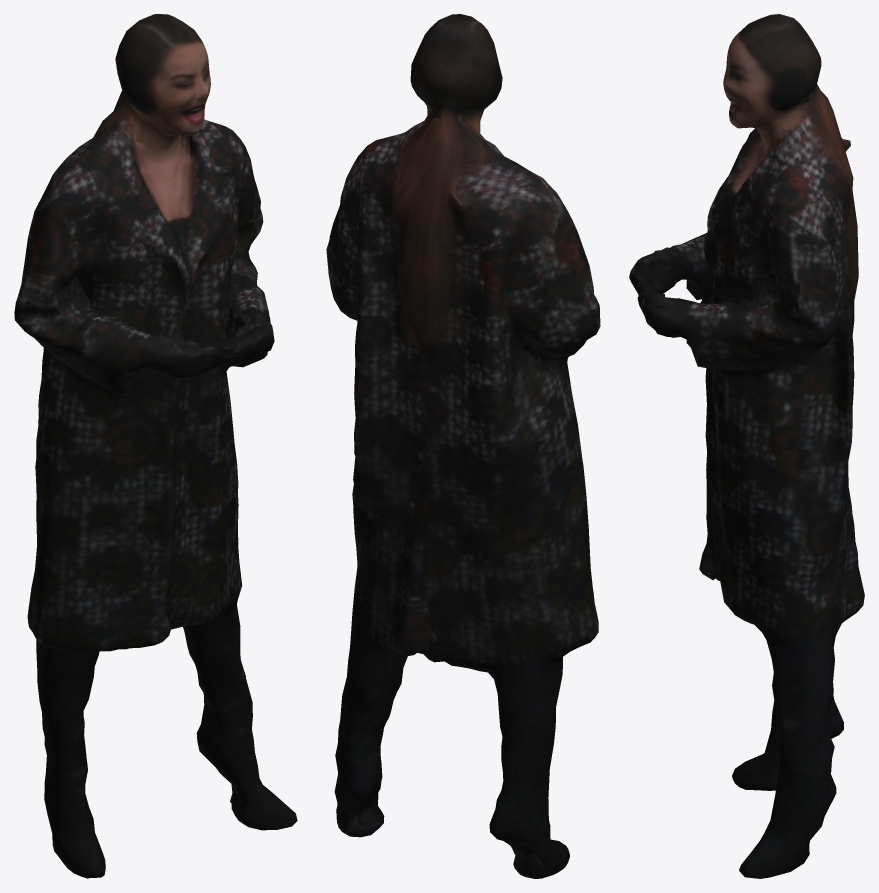
Rendered from evercoast.0086.gltf.
The picture shows the model from 3 angles, left to right: view 1: azimuth 30°, elevation 25°; view 2: azimuth 150°, elevation 25°; view 3: azimuth 270°, elevation 25°; orthographic projection. The views are drawn at different scales.
Parts seen in each view (by area): view 1: HIGH; view 2: HIGH; view 3: HIGH.
Boxes of the visible parts, x1=… form: HIGH: x1=14, y1=14, x2=297, y2=878; HIGH: x1=326, y1=14, x2=600, y2=878; HIGH: x1=629, y1=14, x2=864, y2=878.
Size of the model in its own units: 0.6095 by 1.83 by 0.484.
1 material, 1 textured.
